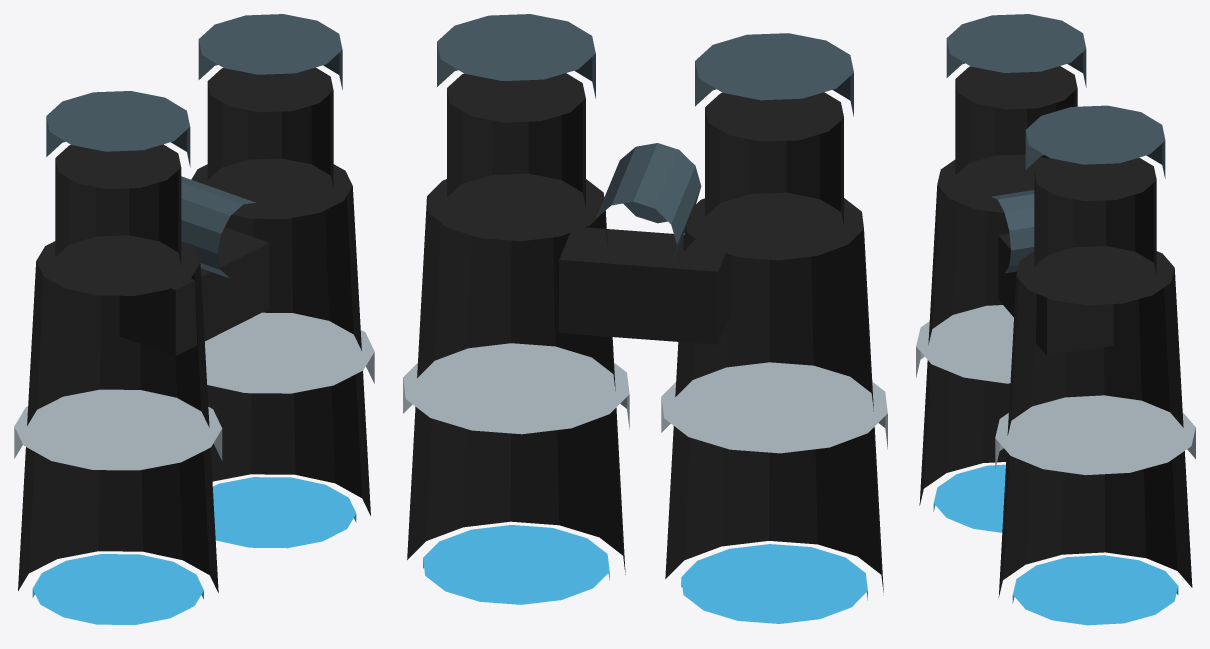
Rendered from kikare.glb.
3 views of the same model, side by side, from view 1: azimuth 30°, elevation 25°; view 2: azimuth 150°, elevation 25°; view 3: azimuth 270°, elevation 25° (orthographic). The views are drawn at different scales.
Parts seen in each view (by area): view 1: kikare; view 2: kikare; view 3: kikare.
Part boxes in pixels (x1,y1,x2,y2): kikare: [14, 14, 374, 624]; kikare: [403, 14, 887, 623]; kikare: [916, 14, 1195, 625].
Bounding box in the file's own units: 0.2356 × 0.289 × 0.1577.
